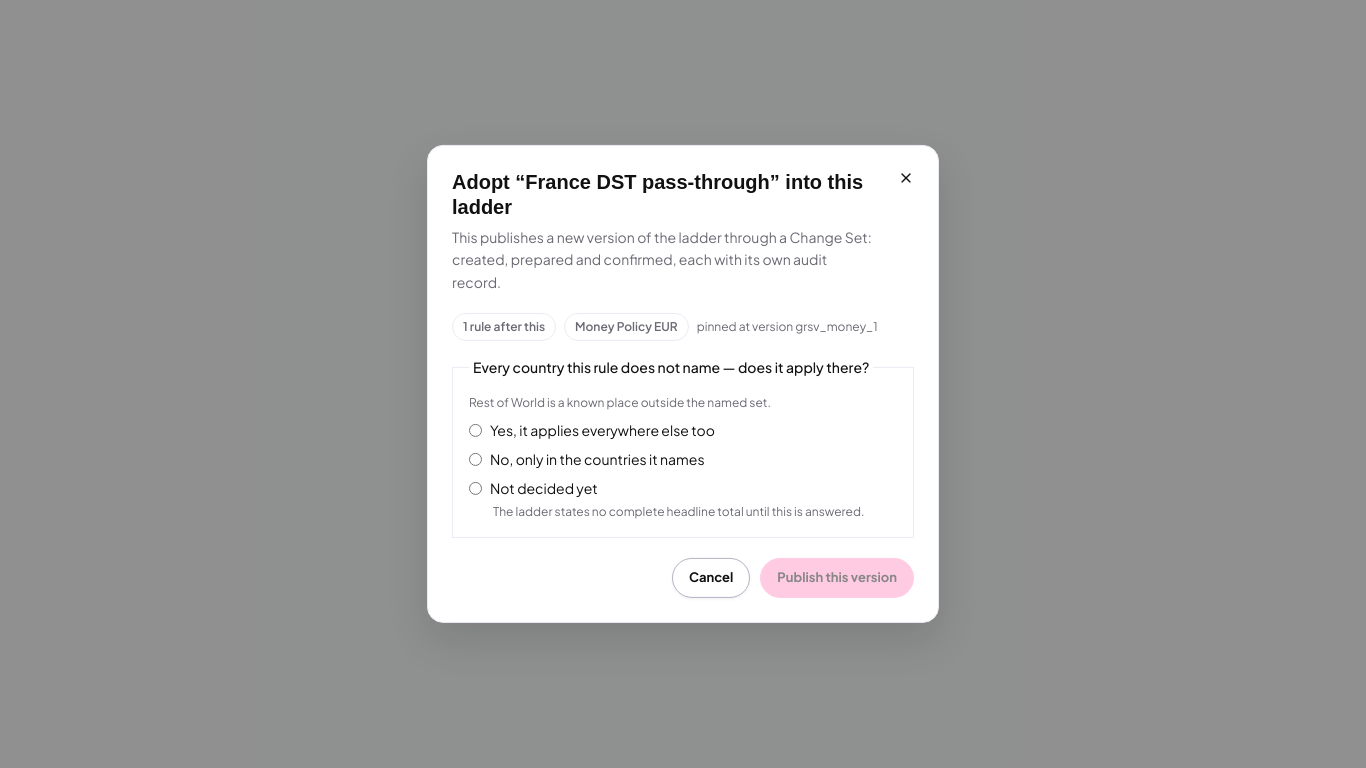
it: adopting a preset through a Change Set › asks one question at a time
The image size is (1366, 768).
Check: the text "Every country this rule does not name — does it apply there?" is shown, box x1=469 y1=357 x2=873 y2=378
Check: the text "pass this through on its invoice" is not shown
Click the radio button labelled "No, only in the countries it names": (476, 460) x1=469 y1=453 x2=482 y2=466
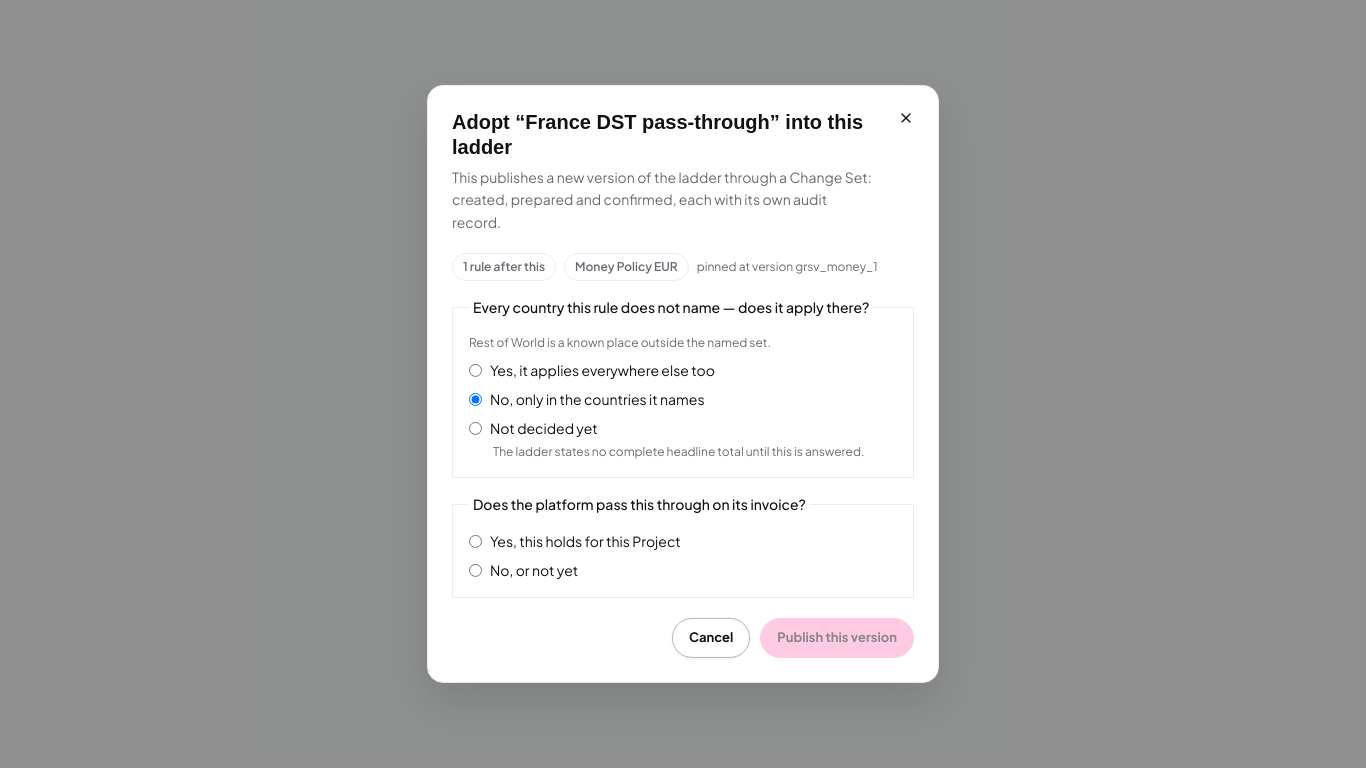
Check: the text "Does the platform pass this through on its invoice?" is shown, box x1=469 y1=494 x2=810 y2=515
